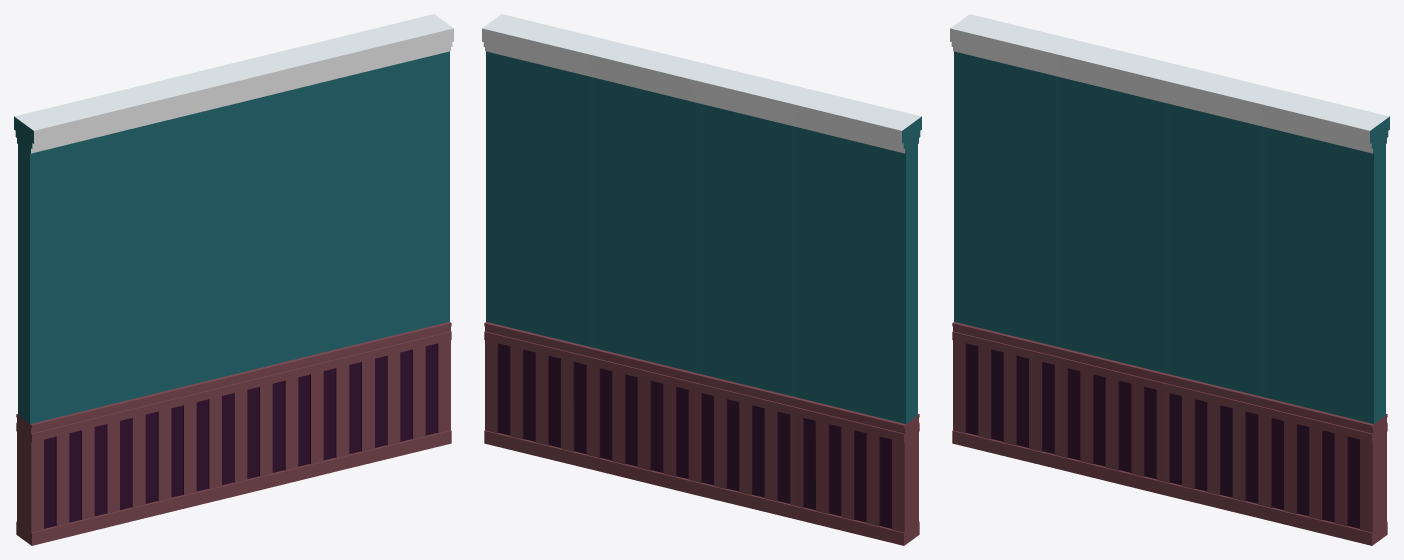
The model's file is TownOffice_Wall.fbx.
3 renders of one model, left to right at view 1: azimuth 30°, elevation 25°; view 2: azimuth 150°, elevation 25°; view 3: azimuth 330°, elevation 25°, orthographic.
Visible parts, largest first — view 1: Wall.001; view 2: Wall.001; view 3: Wall.001.
Boxes of the visible parts, <box> form: Wall.001: <box>14,14,453,545</box>; Wall.001: <box>482,14,921,545</box>; Wall.001: <box>950,14,1389,545</box>.
Bounding box in the file's own units: 266 × 252 × 21.64.
